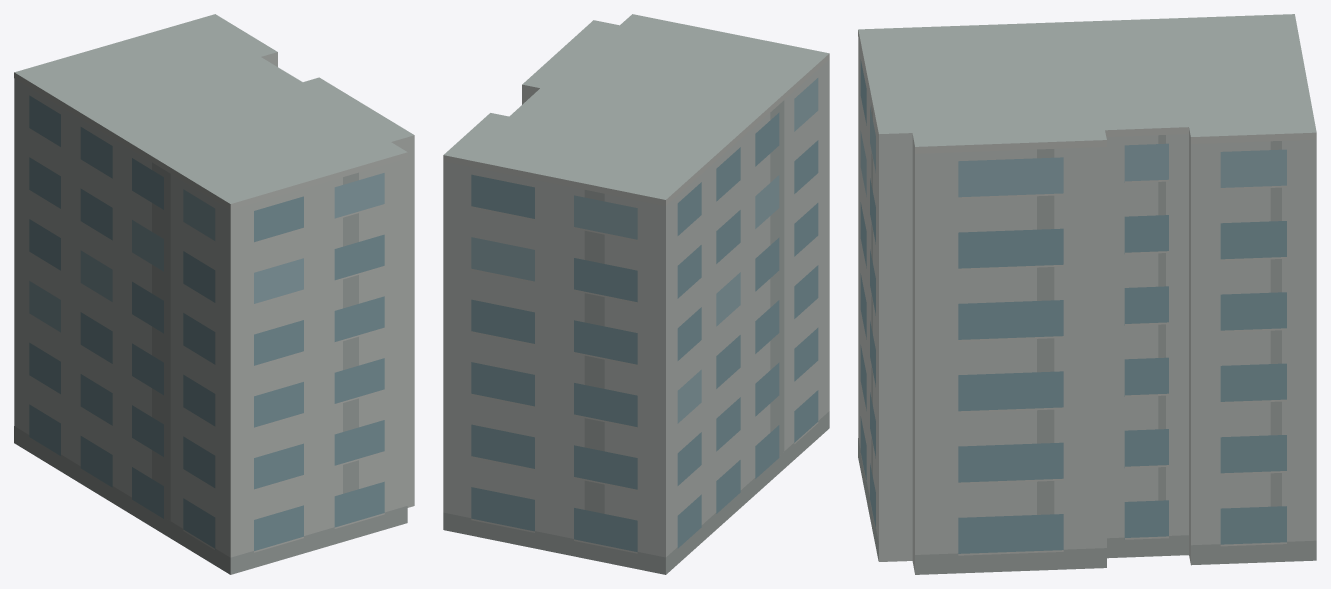
The model's file is survey-upis-32610381.glb.
The picture shows the model from 3 angles, left to right: view 1: azimuth 30°, elevation 25°; view 2: azimuth 150°, elevation 25°; view 3: azimuth 270°, elevation 25°; orthographic projection. The views are drawn at different scales.
Parts seen in each view (by area): view 1: survey-upis-32610381.tmp; view 2: survey-upis-32610381.tmp; view 3: survey-upis-32610381.tmp.
Part boxes in pixels (x1,y1,x2,y2): survey-upis-32610381.tmp: (14,14,414,574); survey-upis-32610381.tmp: (443,14,829,574); survey-upis-32610381.tmp: (858,14,1316,574).
Bounding box in the file's own units: 10 × 15 × 14.58.
